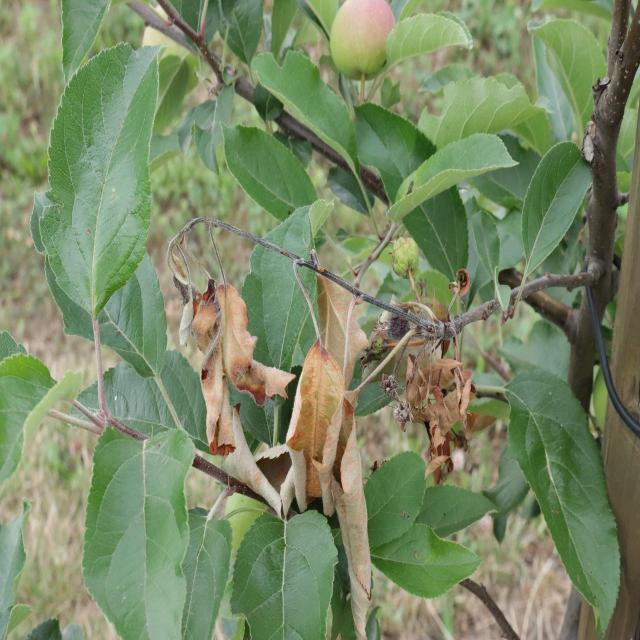-FireBlight-: (170, 231, 300, 461), (301, 262, 378, 625), (400, 338, 466, 489)
